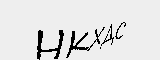Д: (100, 20, 116, 51)
К: (68, 27, 88, 60)
Н: (36, 27, 63, 60)
С: (114, 19, 129, 41)
Х: (88, 24, 103, 54)
